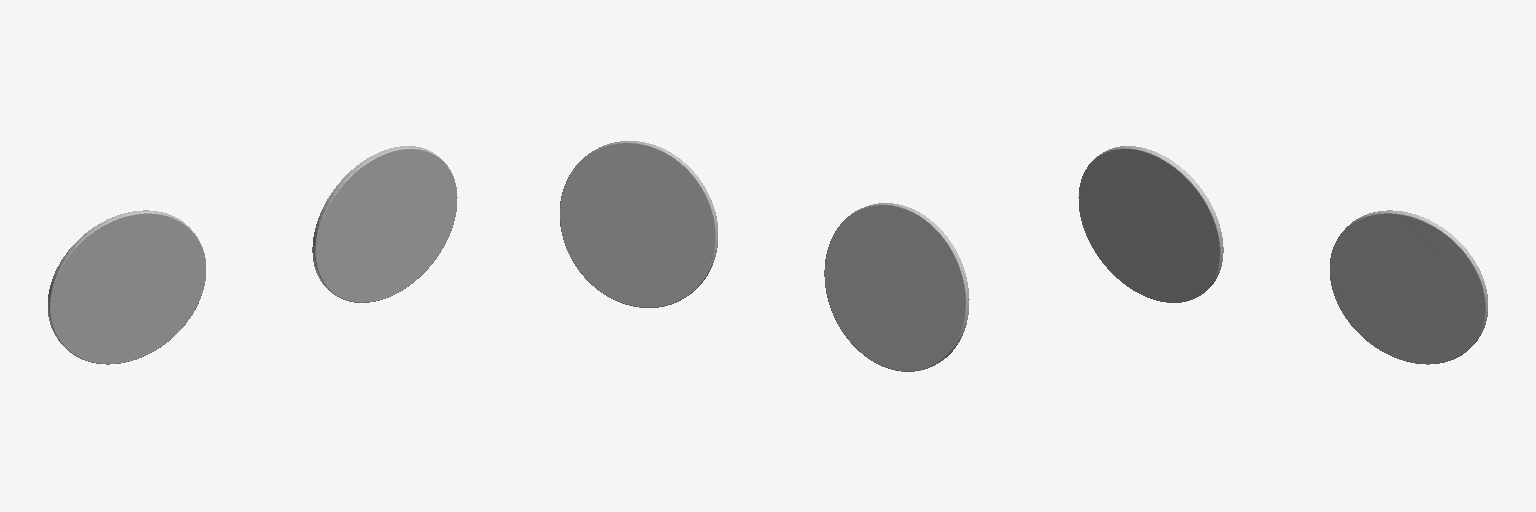
Rendered from glasses-1750125566235-856275823.obj.
The picture shows the model from 3 angles: view 1: azimuth 30°, elevation 25°; view 2: azimuth 150°, elevation 25°; view 3: azimuth 330°, elevation 25°; orthographic projection.
Visible parts, largest first — view 1: 円.002; view 2: 円.002; view 3: 円.002.
Part boxes in pixels (x1,y1,x2,y2): 円.002: (48,146,457,364); 円.002: (560,141,969,371); 円.002: (1078,146,1487,364).
Bounding box in the file's own units: 0.144 × 0.0528 × 0.0091.